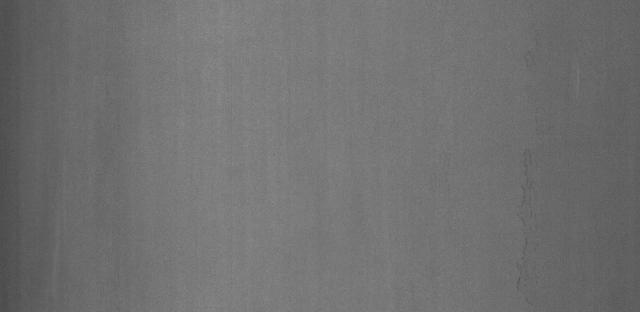silk_spot: (511, 135, 558, 280)
